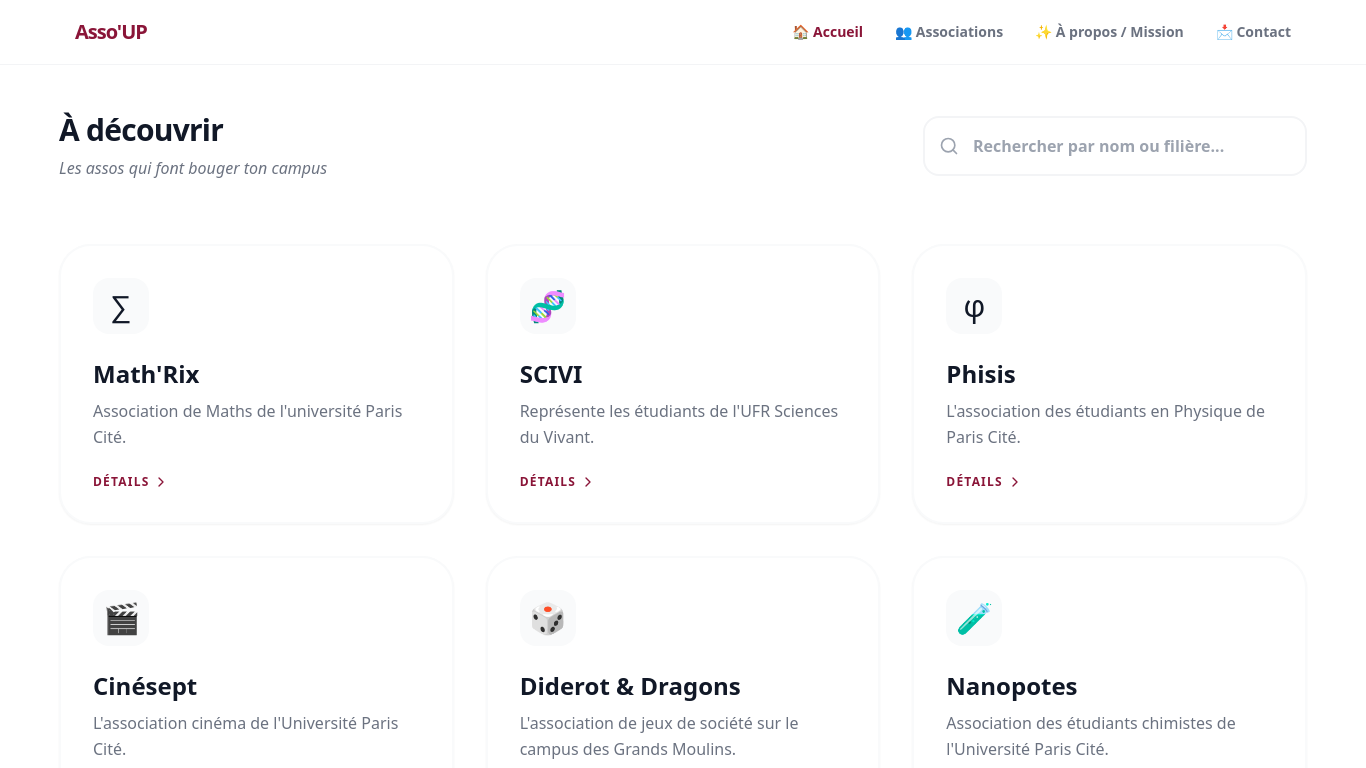
Scenario: le pied de page Contact quitte une fiche
The image size is (1366, 768).
(page scrolled)
Step 1. Click the button that starts with "Math'Rix" → (121, 306), box [59, 244, 454, 524]
(page scrolled)
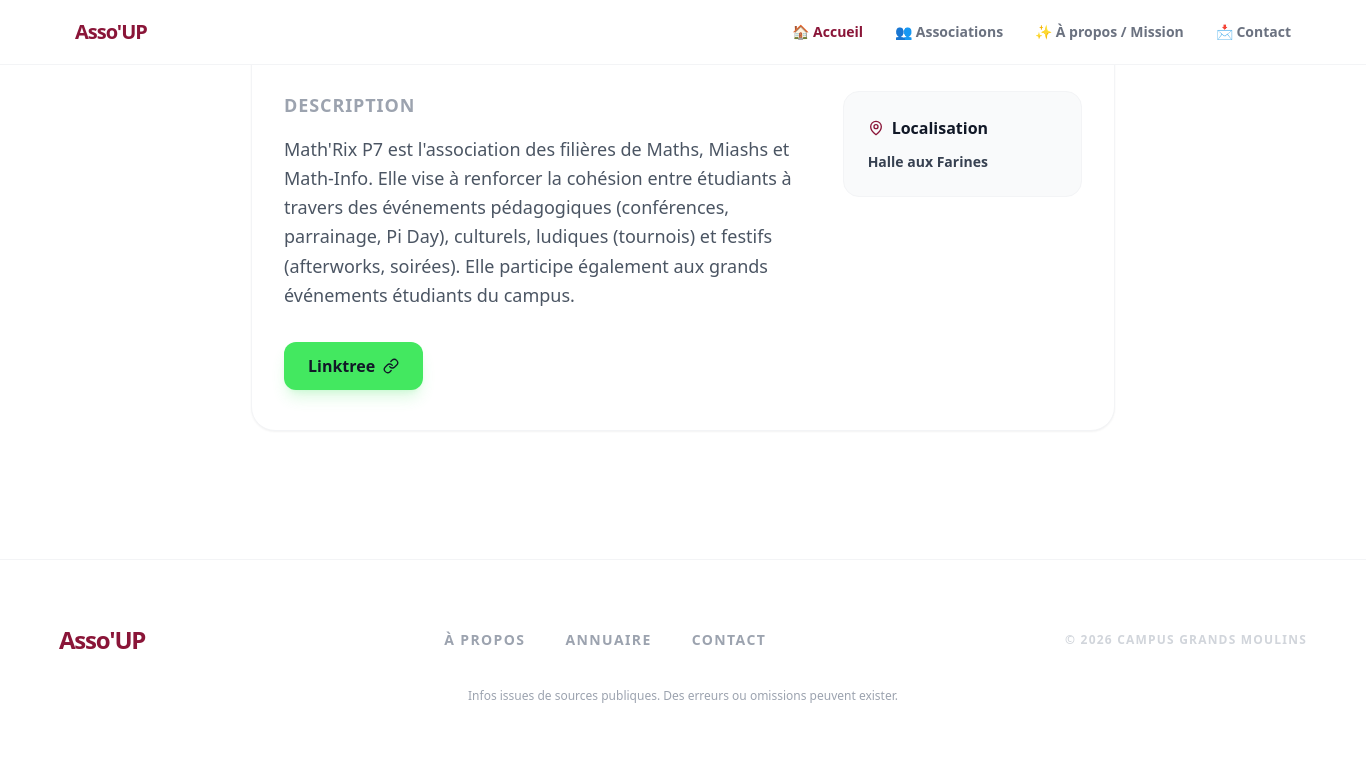
Step 2. Click the button "Contact" → (729, 640), box [692, 630, 766, 650]
(page scrolled)
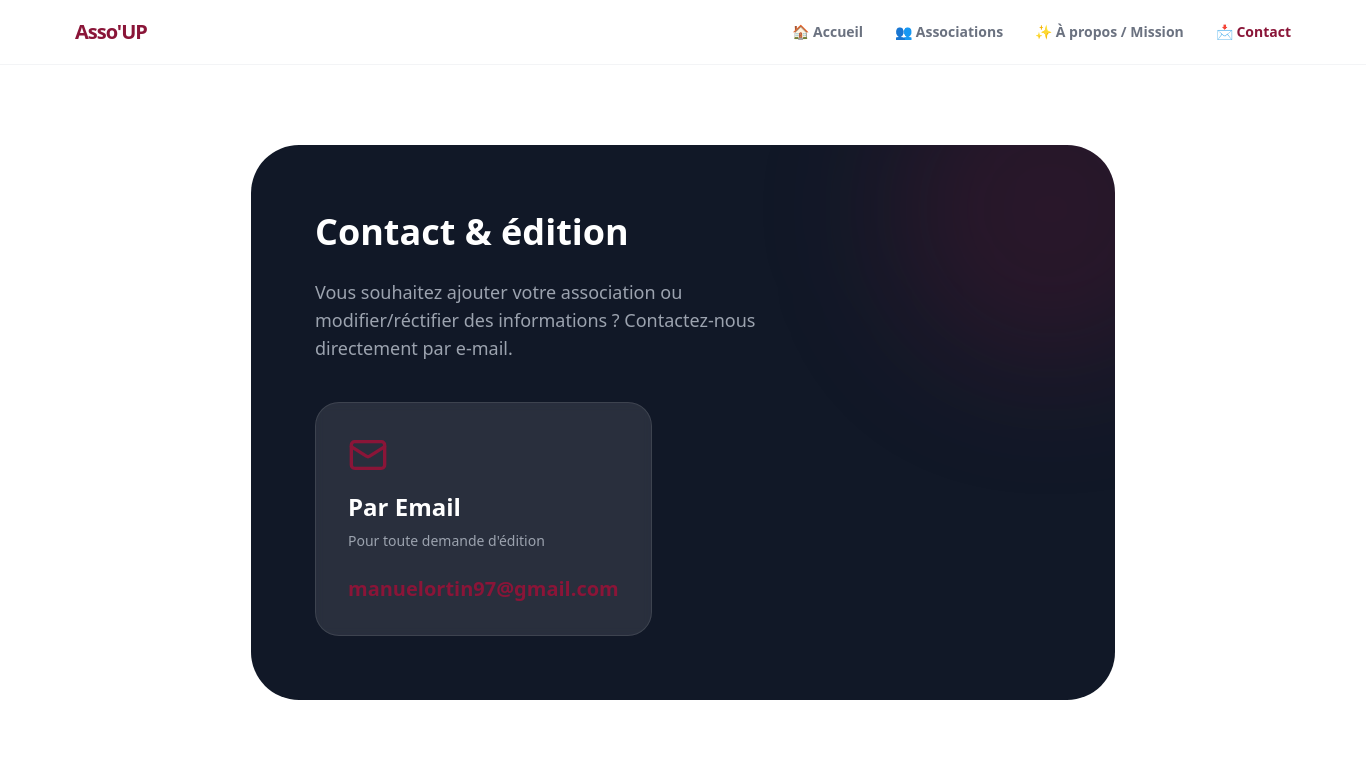
Expected: the heading "Contact & édition" is shown, [315, 207, 629, 256]
